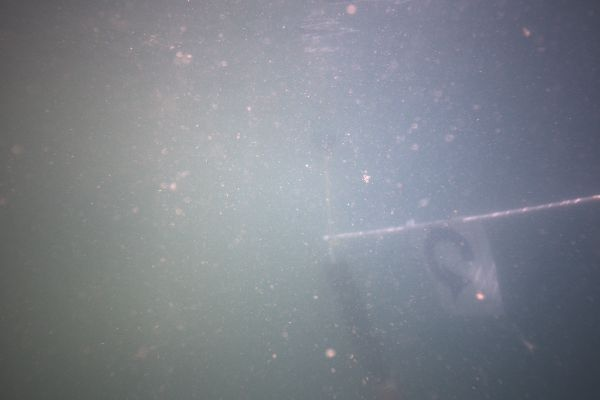gate: (320, 192, 600, 400)
gate_bleue: (414, 218, 504, 322)
